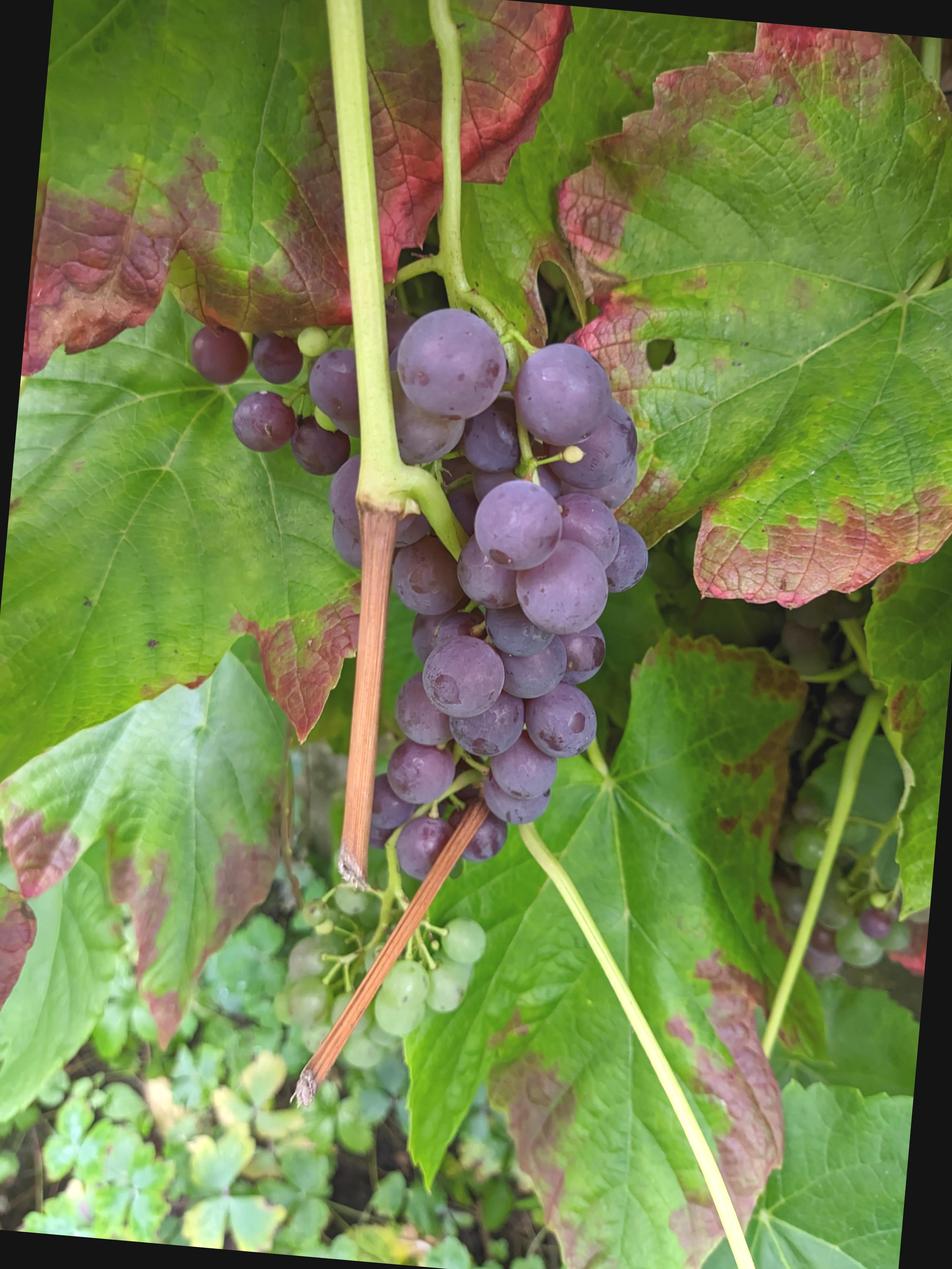Grape Unripe: (328, 222, 728, 864), (234, 236, 477, 448), (321, 843, 546, 1028), (815, 752, 952, 936)
